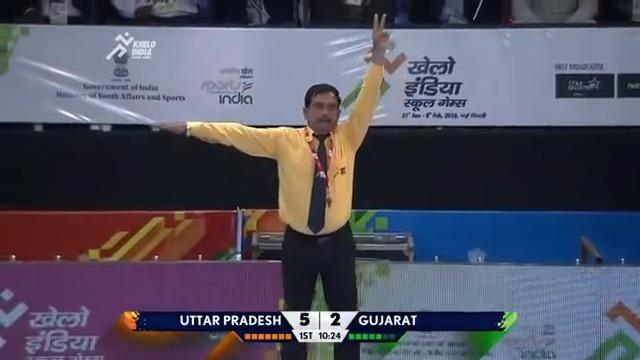referee: (155, 12, 399, 357)
